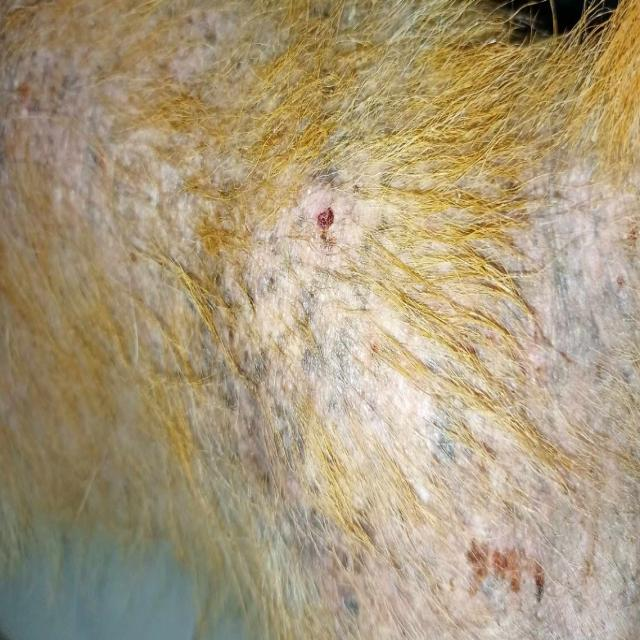demodicosis: (450, 253, 639, 607), (195, 150, 426, 431), (25, 38, 156, 228)
